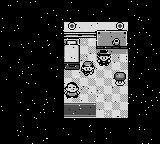main: (82, 62, 95, 75)
no-caminable: (1, 22, 160, 143), (64, 22, 128, 37), (96, 31, 127, 49), (64, 39, 80, 70)
npc: (65, 83, 80, 98), (97, 51, 111, 66), (114, 72, 126, 86)
puerta: (64, 103, 99, 118)
